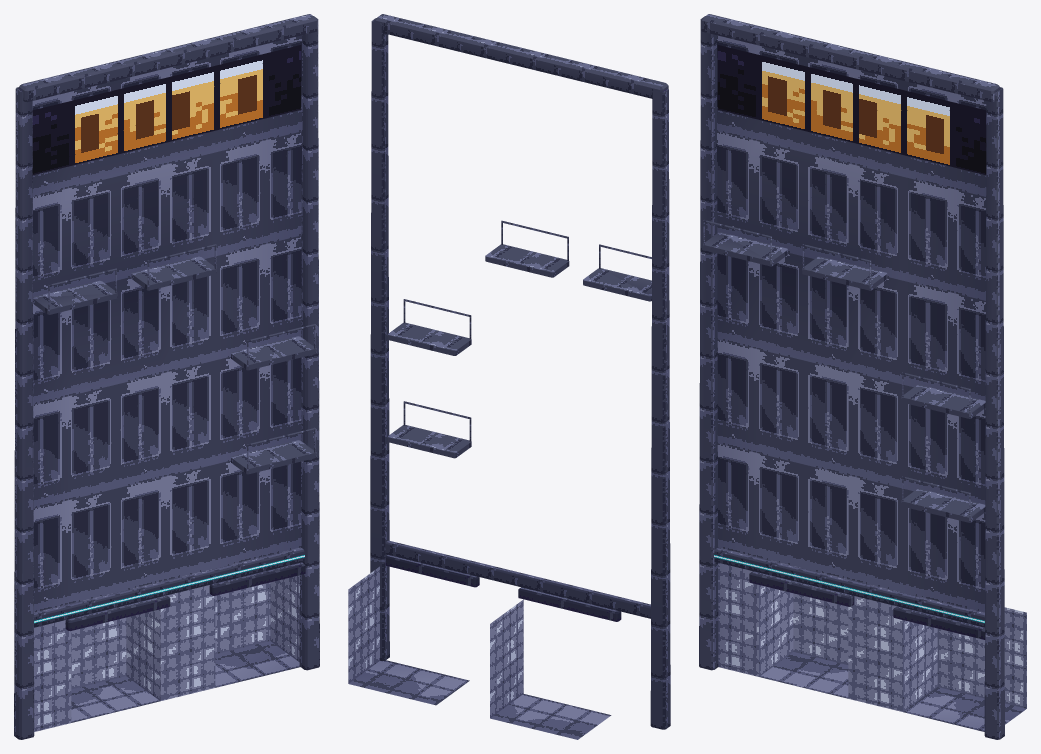
Rendered from cytower.facade.glb.
The picture shows the model from 3 angles, left to right: view 1: azimuth 30°, elevation 25°; view 2: azimuth 150°, elevation 25°; view 3: azimuth 330°, elevation 25°; orthographic projection.
Visible parts, largest first — view 1: kit_shell_front, kit_trim, kit_card_windows; view 2: kit_trim, kit_shell_front; view 3: kit_shell_front, kit_trim, kit_card_windows.
Part boxes in pixels (x1,y1,x2,y2): kit_shell_front: (32,35,301,731); kit_trim: (14,14,319,739); kit_card_windows: (32,45,304,623); kit_trim: (370,14,670,729); kit_shell_front: (348,566,611,739); kit_shell_front: (717,35,1026,731); kit_trim: (699,14,1004,739); kit_card_windows: (714,45,986,623).
Size of the model in its own units: 12.12 by 25.05 by 3.6.
10 materials, 10 textured.
